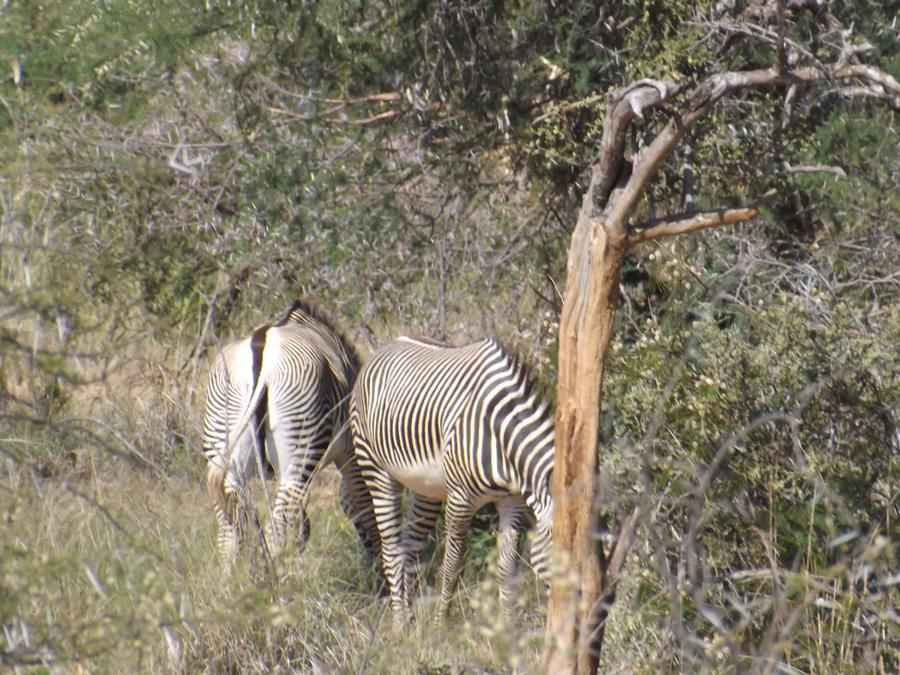zebra_grevys: (344, 325, 493, 504)
